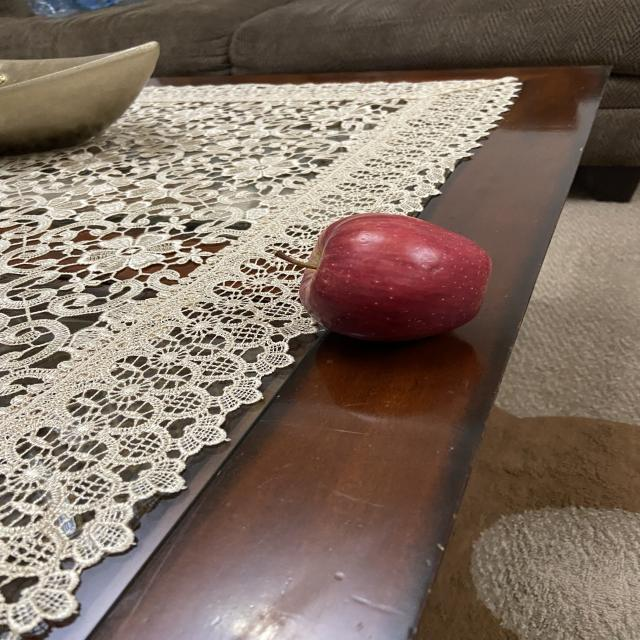apple: (276, 208, 498, 352)
